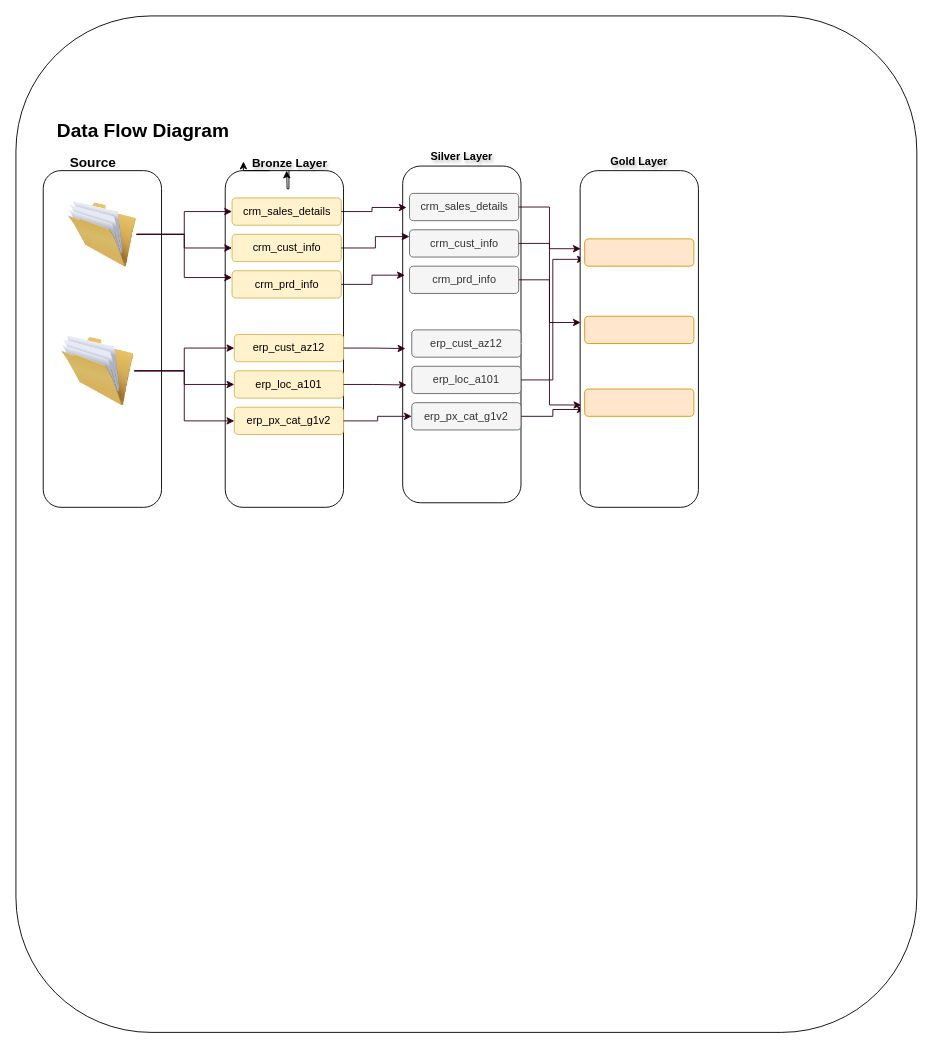
Some shapes in this 933 by 1048 pixel diagram are drawn without their labels. The centre of each missing label's shape, as x and y in pixels:
CRM: point (102, 233)
ERP: point (97, 370)
gold_fact_load: point (639, 329)
gold_load_dimension: point (639, 252)
gold_load_product: point (639, 402)
